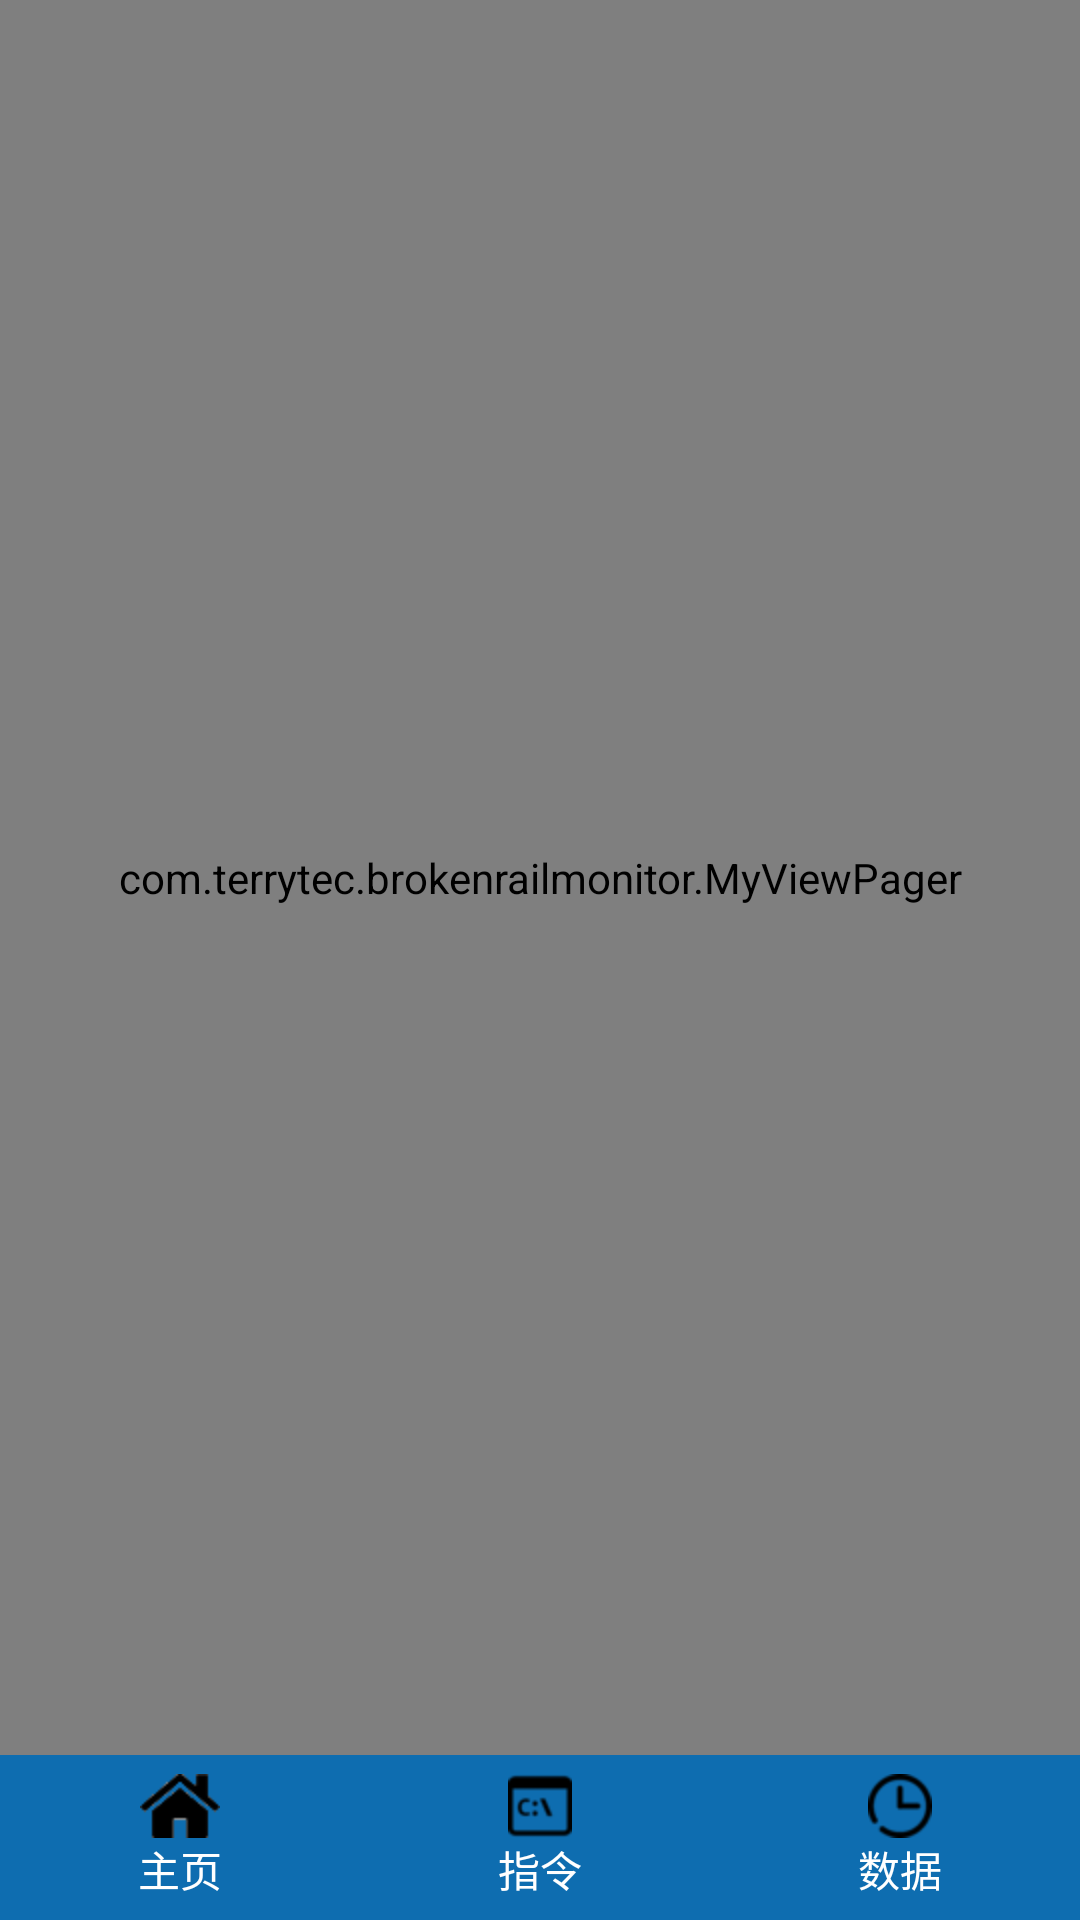

Icons on this 1080×1920 Android screen, each with its box as {"x1": x1, "y1": y1, "x2": x2, "y2": y2}:
history: {"x1": 868, "y1": 1774, "x2": 932, "y2": 1838}
